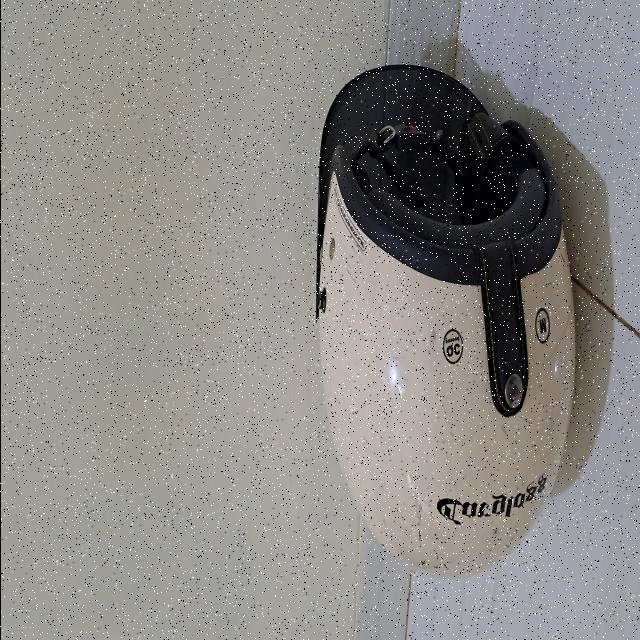Helmet: (315, 64, 574, 578)
